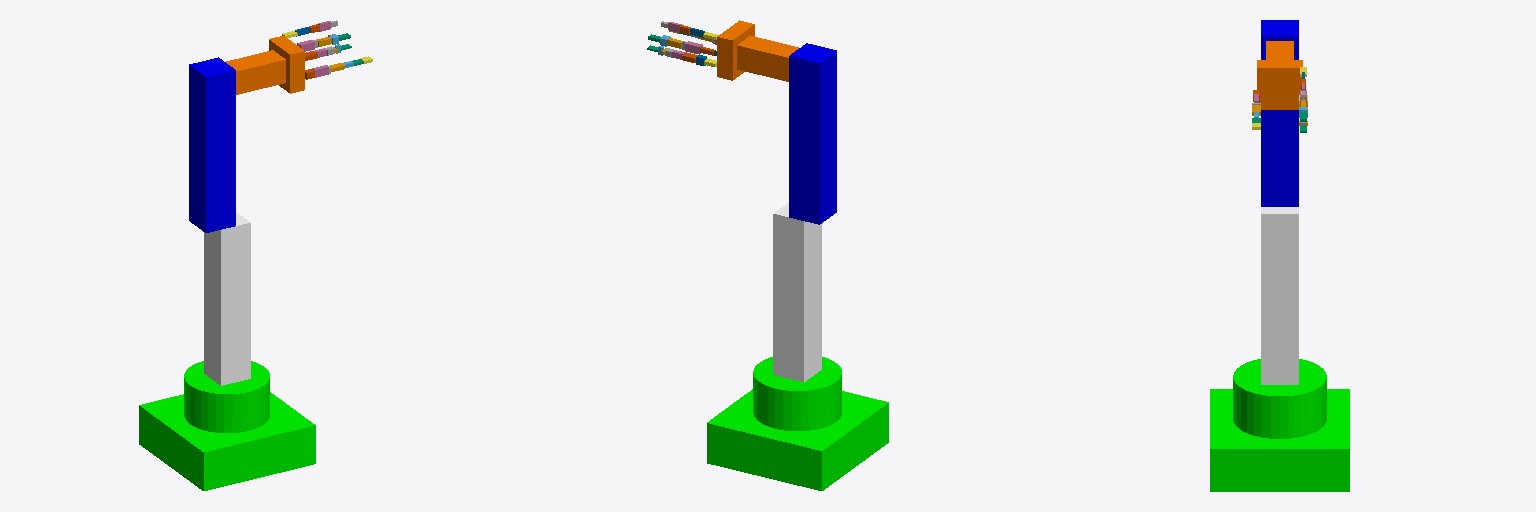
The robot description file, URDF, robot "robot":
<?xml version='1.0' encoding='utf-8'?>
<robot name="robot">
  <link name="base_link">
    <visual>
      <origin xyz="0 0 0.125" rpy="0 0 0" />
      <geometry>
        <box size="0.75 0.75 0.25" />
      </geometry>
      <material name="green" />
    </visual>
    <visual>
      <origin xyz="0 0 0.375" rpy="0 0 0" />
      <geometry>
        <cylinder length="0.25" radius="0.25" />
      </geometry>
      <material name="green">
        <color rgba="0 1 0 1" />
      </material>
    </visual>
    <collision>
      <geometry>
        <box size="0.75 0.75 0.5" />
      </geometry>
    </collision>
    <inertial>
      <mass value="0.5" />
      <inertia ixx="0.034" ixy="0.0" ixz="0.0" iyy="0.034" iyz="0.0" izz="0.034" />
    </inertial>
  </link>
  <link name="support_link">
    <visual>
      <origin xyz="0 0 0.5" rpy="0 0 0" />
      <geometry>
        <box size="0.2 0.2 1" />
      </geometry>
      <material name="white">
        <color rgba="1 1 1 1" />
      </material>
    </visual>
    <collision>
      <geometry>
        <box size="0.2 0.2 1" />
      </geometry>
    </collision>
    <inertial>
      <mass value="0.1" />
      <inertia ixx="0.01" ixy="0.0" ixz="0.0" iyy="0.01" iyz="0.0" izz="0.01" />
    </inertial>
  </link>
  <joint name="support_joint" type="continuous">
    <origin xyz="0 0 0.5" rpy="0 0 0" />
    <parent link="base_link" />
    <child link="support_link" />
    <axis xyz="0 0 1" />
  </joint>
  <link name="arm_link">
    <visual>
      <origin xyz="0 0 0.5" rpy="0 0 0" />
      <geometry>
        <box size="0.2 0.2 1" />
      </geometry>
      <material name="blue">
        <color rgba="0 0 1 1" />
      </material>
    </visual>
    <collision>
      <geometry>
        <box size="0.2 0.2 1" />
      </geometry>
    </collision>
    <inertial>
      <mass value="0.1" />
      <inertia ixx="0.01" ixy="0.0" ixz="0.0" iyy="0.01" iyz="0.0" izz="0.01" />
    </inertial>
  </link>
  <joint name="arm_joint" type="revolute">
    <origin xyz="-0.1 0 1" rpy="0 0 0" />
    <parent link="support_link" />
    <child link="arm_link" />
    <axis xyz="0 1 0" />
    <limit lower="-3.14" upper="3.14" effort="1.0" velocity="1.0" />
  </joint>
  <link name="wrist_link">
    <visual>
      <origin xyz="0 0 0.25" rpy="0 0 0" />
      <geometry>
        <box size="0.15 0.15 0.5" />
      </geometry>
      <material name="orange">
        <color rgba="1 0.5 0 1" />
      </material>
    </visual>
    <collision>
      <geometry>
        <box size="0.15 0.15 0.5" />
      </geometry>
    </collision>
    <inertial>
      <mass value="0.1" />
      <inertia ixx="0.01" ixy="0.0" ixz="0.0" iyy="0.01" iyz="0.0" izz="0.01" />
    </inertial>
  </link>
  <joint name="wrist_joint" type="fixed">
    <origin xyz="0 0 0.9" rpy="0 1.571 0" />
    <parent link="arm_link" />
    <child link="wrist_link" />
  </joint>
  <link name="palm_link">
    <visual>
      <origin xyz="0 0 0.05" rpy="0 0 0" />
      <geometry>
        <box size="0.25 0.25 0.1" />
      </geometry>
      <material name="orange" />
    </visual>
    <collision>
      <geometry>
        <box size="0.25 0.25 0.1" />
      </geometry>
    </collision>
    <inertial>
      <mass value="0.1" />
      <inertia ixx="0.01" ixy="0.0" ixz="0.0" iyy="0.01" iyz="0.0" izz="0.01" />
    </inertial>
  </link>
  <joint name="palm_joint" type="fixed">
    <origin xyz="0 0 0.45" rpy="0 0 0" />
    <parent link="wrist_link" />
    <child link="palm_link" />
  </joint>
  <link name="finger_link_0_0">
    <visual>
      <origin xyz="0 0 0.028" rpy="0 0 0" />
      <geometry>
        <box size="0.044 0.038 0.056" />
      </geometry>
    </visual>
    <collision>
      <geometry>
        <box size="0.044 0.038 0.056" />
      </geometry>
    </collision>
    <inertial>
      <mass value="0.028" />
      <inertia ixx="0.0" iyy="0.0" izz="0.0" ixy="0" ixz="0" iyz="0" />
    </inertial>
  </link>
  <joint name="finger_joint_palm_link_to_finger_link_0_0" type="revolute">
    <origin xyz="0.028 -0.125 0.1" rpy="0 0 0" />
    <parent link="palm_link" />
    <child link="finger_link_0_0" />
    <axis xyz="1.0 1.0 0.0" />
    <limit lower="-3.142" upper="3.142" effort="10" velocity="10" />
  </joint>
  <link name="finger_link_0_1">
    <visual>
      <origin xyz="0 0 0.046" rpy="0 0 0" />
      <geometry>
        <box size="0.049 0.031 0.092" />
      </geometry>
    </visual>
    <collision>
      <geometry>
        <box size="0.049 0.031 0.092" />
      </geometry>
    </collision>
    <inertial>
      <mass value="0.042" />
      <inertia ixx="0.0" iyy="0.0" izz="0.0" ixy="0" ixz="0" iyz="0" />
    </inertial>
  </link>
  <joint name="finger_joint_finger_link_0_0_to_finger_link_0_1" type="revolute">
    <origin xyz="0.0 0.0 0.056" rpy="0 0 0" />
    <parent link="finger_link_0_0" />
    <child link="finger_link_0_1" />
    <axis xyz="1.0 1.0 0.0" />
    <limit lower="-3.142" upper="3.142" effort="10" velocity="10" />
  </joint>
  <link name="finger_link_0_2">
    <visual>
      <origin xyz="0 0 0.0075" rpy="0 0 0" />
      <geometry>
        <box size="0.035 0.043 0.015" />
      </geometry>
    </visual>
    <collision>
      <geometry>
        <box size="0.035 0.043 0.015" />
      </geometry>
    </collision>
    <inertial>
      <mass value="0.007" />
      <inertia ixx="0.0" iyy="0.0" izz="0.0" ixy="0" ixz="0" iyz="0" />
    </inertial>
  </link>
  <joint name="finger_joint_finger_link_0_1_to_finger_link_0_2" type="revolute">
    <origin xyz="0.0 0.0 0.092" rpy="0 0 0" />
    <parent link="finger_link_0_1" />
    <child link="finger_link_0_2" />
    <axis xyz="0.0 1.0 0.0" />
    <limit lower="-3.142" upper="3.142" effort="10" velocity="10" />
  </joint>
  <link name="finger_link_0_3">
    <visual>
      <origin xyz="0 0 0.0465" rpy="0 0 0" />
      <geometry>
        <box size="0.023 0.045 0.093" />
      </geometry>
    </visual>
    <collision>
      <geometry>
        <box size="0.023 0.045 0.093" />
      </geometry>
    </collision>
    <inertial>
      <mass value="0.029" />
      <inertia ixx="0.0" iyy="0.0" izz="0.0" ixy="0" ixz="0" iyz="0" />
    </inertial>
  </link>
  <joint name="finger_joint_finger_link_0_2_to_finger_link_0_3" type="revolute">
    <origin xyz="0.0 0.0 0.015" rpy="0 0 0" />
    <parent link="finger_link_0_2" />
    <child link="finger_link_0_3" />
    <axis xyz="0.0 1.0 0.0" />
    <limit lower="-3.142" upper="3.142" effort="10" velocity="10" />
  </joint>
  <link name="finger_link_0_4">
    <visual>
      <origin xyz="0 0 0.03" rpy="0 0 0" />
      <geometry>
        <box size="0.023 0.031 0.06" />
      </geometry>
    </visual>
    <collision>
      <geometry>
        <box size="0.023 0.031 0.06" />
      </geometry>
    </collision>
    <inertial>
      <mass value="0.013" />
      <inertia ixx="0.0" iyy="0.0" izz="0.0" ixy="0" ixz="0" iyz="0" />
    </inertial>
  </link>
  <joint name="finger_joint_finger_link_0_3_to_finger_link_0_4" type="revolute">
    <origin xyz="0.0 0.0 0.093" rpy="0 0 0" />
    <parent link="finger_link_0_3" />
    <child link="finger_link_0_4" />
    <axis xyz="0.0 1.0 0.0" />
    <limit lower="-3.142" upper="3.142" effort="10" velocity="10" />
  </joint>
  <link name="finger_link_0_5">
    <visual>
      <origin xyz="0 0 0.0325" rpy="0 0 0" />
      <geometry>
        <box size="0.013 0.045 0.065" />
      </geometry>
    </visual>
    <collision>
      <geometry>
        <box size="0.013 0.045 0.065" />
      </geometry>
    </collision>
    <inertial>
      <mass value="0.011" />
      <inertia ixx="0.0" iyy="0.0" izz="0.0" ixy="0" ixz="0" iyz="0" />
    </inertial>
  </link>
  <joint name="finger_joint_finger_link_0_4_to_finger_link_0_5" type="revolute">
    <origin xyz="0.0 0.0 0.06" rpy="0 0 0" />
    <parent link="finger_link_0_4" />
    <child link="finger_link_0_5" />
    <axis xyz="0.0 1.0 0.0" />
    <limit lower="-3.142" upper="3.142" effort="10" velocity="10" />
  </joint>
  <link name="finger_link_0_6">
    <visual>
      <origin xyz="0 0 0.0295" rpy="0 0 0" />
      <geometry>
        <box size="0.018 0.049 0.059" />
      </geometry>
    </visual>
    <collision>
      <geometry>
        <box size="0.018 0.049 0.059" />
      </geometry>
    </collision>
    <inertial>
      <mass value="0.016" />
      <inertia ixx="0.0" iyy="0.0" izz="0.0" ixy="0" ixz="0" iyz="0" />
    </inertial>
  </link>
  <joint name="finger_joint_finger_link_0_5_to_finger_link_0_6" type="revolute">
    <origin xyz="0.0 0.0 0.065" rpy="0 0 0" />
    <parent link="finger_link_0_5" />
    <child link="finger_link_0_6" />
    <axis xyz="1.0 0.0 0.0" />
    <limit lower="-3.142" upper="3.142" effort="10" velocity="10" />
  </joint>
  <link name="finger_link_1_0">
    <visual>
      <origin xyz="0 0 0.0085" rpy="0 0 0" />
      <geometry>
        <box size="0.029 0.011 0.017" />
      </geometry>
    </visual>
    <collision>
      <geometry>
        <box size="0.029 0.011 0.017" />
      </geometry>
    </collision>
    <inertial>
      <mass value="0.002" />
      <inertia ixx="0.0" iyy="0.0" izz="0.0" ixy="0" ixz="0" iyz="0" />
    </inertial>
  </link>
  <joint name="finger_joint_palm_link_to_finger_link_1_0" type="revolute">
    <origin xyz="-0.021 0.125 0.1" rpy="0 0 0" />
    <parent link="palm_link" />
    <child link="finger_link_1_0" />
    <axis xyz="0.0 1.0 0.0" />
    <limit lower="-3.142" upper="3.142" effort="10" velocity="10" />
  </joint>
  <link name="finger_link_1_1">
    <visual>
      <origin xyz="0 0 0.043" rpy="0 0 0" />
      <geometry>
        <box size="0.027 0.026 0.086" />
      </geometry>
    </visual>
    <collision>
      <geometry>
        <box size="0.027 0.026 0.086" />
      </geometry>
    </collision>
    <inertial>
      <mass value="0.018" />
      <inertia ixx="0.0" iyy="0.0" izz="0.0" ixy="0" ixz="0" iyz="0" />
    </inertial>
  </link>
  <joint name="finger_joint_finger_link_1_0_to_finger_link_1_1" type="revolute">
    <origin xyz="0.0 0.0 0.017" rpy="0 0 0" />
    <parent link="finger_link_1_0" />
    <child link="finger_link_1_1" />
    <axis xyz="0.0 1.0 0.0" />
    <limit lower="-3.142" upper="3.142" effort="10" velocity="10" />
  </joint>
  <link name="finger_link_1_2">
    <visual>
      <origin xyz="0 0 0.0475" rpy="0 0 0" />
      <geometry>
        <box size="0.047 0.039 0.095" />
      </geometry>
    </visual>
    <collision>
      <geometry>
        <box size="0.047 0.039 0.095" />
      </geometry>
    </collision>
    <inertial>
      <mass value="0.052" />
      <inertia ixx="0.0" iyy="0.0" izz="0.0" ixy="0" ixz="0" iyz="0" />
    </inertial>
  </link>
  <joint name="finger_joint_finger_link_1_1_to_finger_link_1_2" type="revolute">
    <origin xyz="0.0 0.0 0.086" rpy="0 0 0" />
    <parent link="finger_link_1_1" />
    <child link="finger_link_1_2" />
    <axis xyz="0.0 1.0 0.0" />
    <limit lower="-3.142" upper="3.142" effort="10" velocity="10" />
  </joint>
  <link name="finger_link_1_3">
    <visual>
      <origin xyz="0 0 0.014" rpy="0 0 0" />
      <geometry>
        <box size="0.048 0.013 0.028" />
      </geometry>
    </visual>
    <collision>
      <geometry>
        <box size="0.048 0.013 0.028" />
      </geometry>
    </collision>
    <inertial>
      <mass value="0.005" />
      <inertia ixx="0.0" iyy="0.0" izz="0.0" ixy="0" ixz="0" iyz="0" />
    </inertial>
  </link>
  <joint name="finger_joint_finger_link_1_2_to_finger_link_1_3" type="revolute">
    <origin xyz="0.0 0.0 0.095" rpy="0 0 0" />
    <parent link="finger_link_1_2" />
    <child link="finger_link_1_3" />
    <axis xyz="1.0 1.0 0.0" />
    <limit lower="-3.142" upper="3.142" effort="10" velocity="10" />
  </joint>
  <link name="finger_link_1_4">
    <visual>
      <origin xyz="0 0 0.044" rpy="0 0 0" />
      <geometry>
        <box size="0.036 0.03 0.088" />
      </geometry>
    </visual>
    <collision>
      <geometry>
        <box size="0.036 0.03 0.088" />
      </geometry>
    </collision>
    <inertial>
      <mass value="0.029" />
      <inertia ixx="0.0" iyy="0.0" izz="0.0" ixy="0" ixz="0" iyz="0" />
    </inertial>
  </link>
  <joint name="finger_joint_finger_link_1_3_to_finger_link_1_4" type="revolute">
    <origin xyz="0.0 0.0 0.028" rpy="0 0 0" />
    <parent link="finger_link_1_3" />
    <child link="finger_link_1_4" />
    <axis xyz="0.0 1.0 0.0" />
    <limit lower="-3.142" upper="3.142" effort="10" velocity="10" />
  </joint>
  <link name="finger_link_1_5">
    <visual>
      <origin xyz="0 0 0.0225" rpy="0 0 0" />
      <geometry>
        <box size="0.043 0.05 0.045" />
      </geometry>
    </visual>
    <collision>
      <geometry>
        <box size="0.043 0.05 0.045" />
      </geometry>
    </collision>
    <inertial>
      <mass value="0.029" />
      <inertia ixx="0.0" iyy="0.0" izz="0.0" ixy="0" ixz="0" iyz="0" />
    </inertial>
  </link>
  <joint name="finger_joint_finger_link_1_4_to_finger_link_1_5" type="revolute">
    <origin xyz="0.0 0.0 0.088" rpy="0 0 0" />
    <parent link="finger_link_1_4" />
    <child link="finger_link_1_5" />
    <axis xyz="0.0 1.0 0.0" />
    <limit lower="-3.142" upper="3.142" effort="10" velocity="10" />
  </joint>
  <link name="finger_link_1_6">
    <visual>
      <origin xyz="0 0 0.0395" rpy="0 0 0" />
      <geometry>
        <box size="0.02 0.035 0.079" />
      </geometry>
    </visual>
    <collision>
      <geometry>
        <box size="0.02 0.035 0.079" />
      </geometry>
    </collision>
    <inertial>
      <mass value="0.017" />
      <inertia ixx="0.0" iyy="0.0" izz="0.0" ixy="0" ixz="0" iyz="0" />
    </inertial>
  </link>
  <joint name="finger_joint_finger_link_1_5_to_finger_link_1_6" type="revolute">
    <origin xyz="0.0 0.0 0.045" rpy="0 0 0" />
    <parent link="finger_link_1_5" />
    <child link="finger_link_1_6" />
    <axis xyz="1.0 1.0 0.0" />
    <limit lower="-3.142" upper="3.142" effort="10" velocity="10" />
  </joint>
  <link name="finger_link_2_0">
    <visual>
      <origin xyz="0 0 0.0375" rpy="0 0 0" />
      <geometry>
        <box size="0.022 0.044 0.075" />
      </geometry>
    </visual>
    <collision>
      <geometry>
        <box size="0.022 0.044 0.075" />
      </geometry>
    </collision>
    <inertial>
      <mass value="0.022" />
      <inertia ixx="0.0" iyy="0.0" izz="0.0" ixy="0" ixz="0" iyz="0" />
    </inertial>
  </link>
  <joint name="finger_joint_palm_link_to_finger_link_2_0" type="revolute">
    <origin xyz="0.046 0.125 0.1" rpy="0 0 0" />
    <parent link="palm_link" />
    <child link="finger_link_2_0" />
    <axis xyz="0.0 1.0 0.0" />
    <limit lower="-3.142" upper="3.142" effort="10" velocity="10" />
  </joint>
  <link name="finger_link_2_1">
    <visual>
      <origin xyz="0 0 0.026" rpy="0 0 0" />
      <geometry>
        <box size="0.048 0.036 0.052" />
      </geometry>
    </visual>
    <collision>
      <geometry>
        <box size="0.048 0.036 0.052" />
      </geometry>
    </collision>
    <inertial>
      <mass value="0.027" />
      <inertia ixx="0.0" iyy="0.0" izz="0.0" ixy="0" ixz="0" iyz="0" />
    </inertial>
  </link>
  <joint name="finger_joint_finger_link_2_0_to_finger_link_2_1" type="revolute">
    <origin xyz="0.0 0.0 0.075" rpy="0 0 0" />
    <parent link="finger_link_2_0" />
    <child link="finger_link_2_1" />
    <axis xyz="0.0 1.0 0.0" />
    <limit lower="-3.142" upper="3.142" effort="10" velocity="10" />
  </joint>
  <link name="finger_link_2_2">
    <visual>
      <origin xyz="0 0 0.0435" rpy="0 0 0" />
      <geometry>
        <box size="0.029 0.049 0.087" />
      </geometry>
    </visual>
    <collision>
      <geometry>
        <box size="0.029 0.049 0.087" />
      </geometry>
    </collision>
    <inertial>
      <mass value="0.037" />
      <inertia ixx="0.0" iyy="0.0" izz="0.0" ixy="0" ixz="0" iyz="0" />
    </inertial>
  </link>
  <joint name="finger_joint_finger_link_2_1_to_finger_link_2_2" type="revolute">
    <origin xyz="0.0 0.0 0.052" rpy="0 0 0" />
    <parent link="finger_link_2_1" />
    <child link="finger_link_2_2" />
    <axis xyz="1.0 0.0 0.0" />
    <limit lower="-3.142" upper="3.142" effort="10" velocity="10" />
  </joint>
  <link name="finger_link_2_3">
    <visual>
      <origin xyz="0 0 0.0345" rpy="0 0 0" />
      <geometry>
        <box size="0.036 0.029 0.069" />
      </geometry>
    </visual>
    <collision>
      <geometry>
        <box size="0.036 0.029 0.069" />
      </geometry>
    </collision>
    <inertial>
      <mass value="0.022" />
      <inertia ixx="0.0" iyy="0.0" izz="0.0" ixy="0" ixz="0" iyz="0" />
    </inertial>
  </link>
  <joint name="finger_joint_finger_link_2_2_to_finger_link_2_3" type="revolute">
    <origin xyz="0.0 0.0 0.087" rpy="0 0 0" />
    <parent link="finger_link_2_2" />
    <child link="finger_link_2_3" />
    <axis xyz="1.0 1.0 0.0" />
    <limit lower="-3.142" upper="3.142" effort="10" velocity="10" />
  </joint>
  <link name="finger_link_2_4">
    <visual>
      <origin xyz="0 0 0.0235" rpy="0 0 0" />
      <geometry>
        <box size="0.034 0.038 0.047" />
      </geometry>
    </visual>
    <collision>
      <geometry>
        <box size="0.034 0.038 0.047" />
      </geometry>
    </collision>
    <inertial>
      <mass value="0.018" />
      <inertia ixx="0.0" iyy="0.0" izz="0.0" ixy="0" ixz="0" iyz="0" />
    </inertial>
  </link>
  <joint name="finger_joint_finger_link_2_3_to_finger_link_2_4" type="revolute">
    <origin xyz="0.0 0.0 0.069" rpy="0 0 0" />
    <parent link="finger_link_2_3" />
    <child link="finger_link_2_4" />
    <axis xyz="1.0 1.0 0.0" />
    <limit lower="-3.142" upper="3.142" effort="10" velocity="10" />
  </joint>
  <link name="finger_link_2_5">
    <visual>
      <origin xyz="0 0 0.009" rpy="0 0 0" />
      <geometry>
        <box size="0.021 0.045 0.018" />
      </geometry>
    </visual>
    <collision>
      <geometry>
        <box size="0.021 0.045 0.018" />
      </geometry>
    </collision>
    <inertial>
      <mass value="0.005" />
      <inertia ixx="0.0" iyy="0.0" izz="0.0" ixy="0" ixz="0" iyz="0" />
    </inertial>
  </link>
  <joint name="finger_joint_finger_link_2_4_to_finger_link_2_5" type="revolute">
    <origin xyz="0.0 0.0 0.047" rpy="0 0 0" />
    <parent link="finger_link_2_4" />
    <child link="finger_link_2_5" />
    <axis xyz="1.0 1.0 0.0" />
    <limit lower="-3.142" upper="3.142" effort="10" velocity="10" />
  </joint>
  <link name="finger_link_2_6">
    <visual>
      <origin xyz="0 0 0.014" rpy="0 0 0" />
      <geometry>
        <box size="0.049 0.019 0.028" />
      </geometry>
    </visual>
    <collision>
      <geometry>
        <box size="0.049 0.019 0.028" />
      </geometry>
    </collision>
    <inertial>
      <mass value="0.008" />
      <inertia ixx="0.0" iyy="0.0" izz="0.0" ixy="0" ixz="0" iyz="0" />
    </inertial>
  </link>
  <joint name="finger_joint_finger_link_2_5_to_finger_link_2_6" type="revolute">
    <origin xyz="0.0 0.0 0.018" rpy="0 0 0" />
    <parent link="finger_link_2_5" />
    <child link="finger_link_2_6" />
    <axis xyz="1.0 0.0 0.0" />
    <limit lower="-3.142" upper="3.142" effort="10" velocity="10" />
  </joint>
  <link name="finger_link_2_7">
    <visual>
      <origin xyz="0 0 0.034" rpy="0 0 0" />
      <geometry>
        <box size="0.012 0.038 0.068" />
      </geometry>
    </visual>
    <collision>
      <geometry>
        <box size="0.012 0.038 0.068" />
      </geometry>
    </collision>
    <inertial>
      <mass value="0.009" />
      <inertia ixx="0.0" iyy="0.0" izz="0.0" ixy="0" ixz="0" iyz="0" />
    </inertial>
  </link>
  <joint name="finger_joint_finger_link_2_6_to_finger_link_2_7" type="revolute">
    <origin xyz="0.0 0.0 0.028" rpy="0 0 0" />
    <parent link="finger_link_2_6" />
    <child link="finger_link_2_7" />
    <axis xyz="1.0 0.0 0.0" />
    <limit lower="-3.142" upper="3.142" effort="10" velocity="10" />
  </joint>
  <link name="finger_link_3_0">
    <visual>
      <origin xyz="0 0 0.041" rpy="0 0 0" />
      <geometry>
        <box size="0.018 0.037 0.082" />
      </geometry>
    </visual>
    <collision>
      <geometry>
        <box size="0.018 0.037 0.082" />
      </geometry>
    </collision>
    <inertial>
      <mass value="0.016" />
      <inertia ixx="0.0" iyy="0.0" izz="0.0" ixy="0" ixz="0" iyz="0" />
    </inertial>
  </link>
  <joint name="finger_joint_palm_link_to_finger_link_3_0" type="revolute">
    <origin xyz="-0.12 0.125 0.1" rpy="0 0 0" />
    <parent link="palm_link" />
    <child link="finger_link_3_0" />
    <axis xyz="1.0 0.0 0.0" />
    <limit lower="-3.142" upper="3.142" effort="10" velocity="10" />
  </joint>
  <link name="finger_link_3_1">
    <visual>
      <origin xyz="0 0 0.046" rpy="0 0 0" />
      <geometry>
        <box size="0.038 0.012 0.092" />
      </geometry>
    </visual>
    <collision>
      <geometry>
        <box size="0.038 0.012 0.092" />
      </geometry>
    </collision>
    <inertial>
      <mass value="0.013" />
      <inertia ixx="0.0" iyy="0.0" izz="0.0" ixy="0" ixz="0" iyz="0" />
    </inertial>
  </link>
  <joint name="finger_joint_finger_link_3_0_to_finger_link_3_1" type="revolute">
    <origin xyz="0.0 0.0 0.082" rpy="0 0 0" />
    <parent link="finger_link_3_0" />
    <child link="finger_link_3_1" />
    <axis xyz="0.0 1.0 0.0" />
    <limit lower="-3.142" upper="3.142" effort="10" velocity="10" />
  </joint>
  <link name="finger_link_3_2">
    <visual>
      <origin xyz="0 0 0.031" rpy="0 0 0" />
      <geometry>
        <box size="0.036 0.023 0.062" />
      </geometry>
    </visual>
    <collision>
      <geometry>
        <box size="0.036 0.023 0.062" />
      </geometry>
    </collision>
    <inertial>
      <mass value="0.015" />
      <inertia ixx="0.0" iyy="0.0" izz="0.0" ixy="0" ixz="0" iyz="0" />
    </inertial>
  </link>
  <joint name="finger_joint_finger_link_3_1_to_finger_link_3_2" type="revolute">
    <origin xyz="0.0 0.0 0.092" rpy="0 0 0" />
    <parent link="finger_link_3_1" />
    <child link="finger_link_3_2" />
    <axis xyz="1.0 1.0 0.0" />
    <limit lower="-3.142" upper="3.142" effort="10" velocity="10" />
  </joint>
  <link name="finger_link_3_3">
    <visual>
      <origin xyz="0 0 0.0385" rpy="0 0 0" />
      <geometry>
        <box size="0.048 0.017 0.077" />
      </geometry>
    </visual>
    <collision>
      <geometry>
        <box size="0.048 0.017 0.077" />
      </geometry>
    </collision>
    <inertial>
      <mass value="0.019" />
      <inertia ixx="0.0" iyy="0.0" izz="0.0" ixy="0" ixz="0" iyz="0" />
    </inertial>
  </link>
  <joint name="finger_joint_finger_link_3_2_to_finger_link_3_3" type="revolute">
    <origin xyz="0.0 0.0 0.062" rpy="0 0 0" />
    <parent link="finger_link_3_2" />
    <child link="finger_link_3_3" />
    <axis xyz="0.0 1.0 0.0" />
    <limit lower="-3.142" upper="3.142" effort="10" velocity="10" />
  </joint>
  <link name="finger_link_3_4">
    <visual>
      <origin xyz="0 0 0.0235" rpy="0 0 0" />
      <geometry>
        <box size="0.026 0.021 0.047" />
      </geometry>
    </visual>
    <collision>
      <geometry>
        <box size="0.026 0.021 0.047" />
      </geometry>
    </collision>
    <inertial>
      <mass value="0.008" />
      <inertia ixx="0.0" iyy="0.0" izz="0.0" ixy="0" ixz="0" iyz="0" />
    </inertial>
  </link>
  <joint name="finger_joint_finger_link_3_3_to_finger_link_3_4" type="revolute">
    <origin xyz="0.0 0.0 0.077" rpy="0 0 0" />
    <parent link="finger_link_3_3" />
    <child link="finger_link_3_4" />
    <axis xyz="1.0 1.0 0.0" />
    <limit lower="-3.142" upper="3.142" effort="10" velocity="10" />
  </joint>
</robot>

--- Facts derived from the render (not from the file) ---
Views: 3 orthographic renders of the robot side by side, from view 1: azimuth 30°, elevation 25°; view 2: azimuth 150°, elevation 25°; view 3: azimuth 270°, elevation 25°.
Model robot with 32 links and 31 joints (28 revolute, 1 continuous, 2 fixed), rooted at base_link, posed all joints at 0.
Visible links, largest first — view 1: base_link, arm_link, support_link, wrist_link, palm_link; view 2: base_link, arm_link, support_link, wrist_link, palm_link; view 3: base_link, support_link, arm_link, palm_link, wrist_link.
Link boxes in pixels (<box>): base_link: <box>139,361,315,490</box>; arm_link: <box>189,57,235,232</box>; support_link: <box>204,212,250,385</box>; wrist_link: <box>226,50,285,94</box>; palm_link: <box>269,36,304,93</box>; base_link: <box>707,357,888,490</box>; arm_link: <box>789,43,836,224</box>; support_link: <box>773,203,821,381</box>; wrist_link: <box>737,36,798,81</box>; palm_link: <box>717,20,754,80</box>; base_link: <box>1210,359,1349,491</box>; support_link: <box>1261,207,1298,384</box>; arm_link: <box>1261,20,1298,206</box>; palm_link: <box>1257,60,1302,109</box>; wrist_link: <box>1266,41,1293,59</box>.
Bounding box of the posed robot: 1.27 × 0.75 × 2.54 m (x, y, z).
Geometry: primitives only (box / cylinder / sphere), no mesh files.